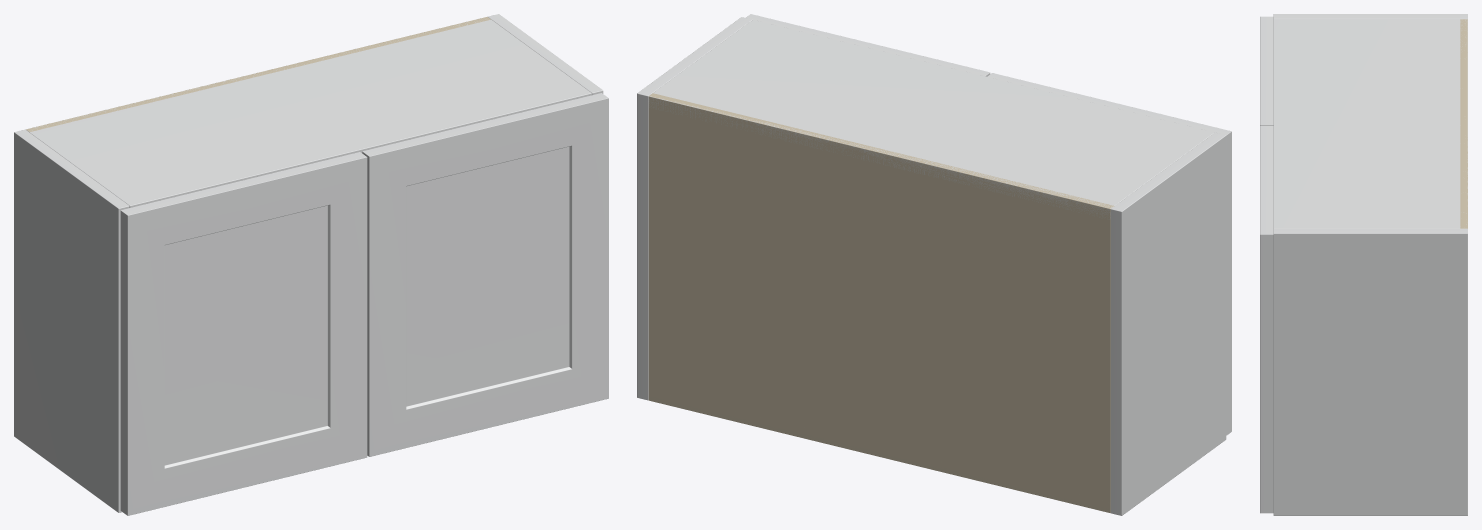
The model's file is PLY-WSS-W3018.glb.
3 renders of one model, left to right at view 1: azimuth 30°, elevation 25°; view 2: azimuth 150°, elevation 25°; view 3: azimuth 270°, elevation 25°, orthographic. The views are drawn at different scales.
Visible parts, largest first — view 1: Shaker door, Shaker door.001, Carcass top, Carcass left, Carcass back, Carcass right; view 2: Carcass back, Carcass top, Carcass left, Carcass right, Shaker door, Carcass bottom, Shaker door.001; view 3: Carcass right, Carcass top, Shaker door.001, Carcass back, Shaker door, Carcass left.
Boxes of the visible parts, box(x1,y1,x2,y2) form: Shaker door: box(120, 152, 367, 515); Shaker door.001: box(362, 93, 608, 456); Carcass top: box(26, 17, 591, 207); Carcass left: box(14, 129, 129, 512); Carcass back: box(26, 17, 490, 131); Carcass right: box(488, 14, 603, 95); Carcass back: box(648, 93, 1113, 512); Carcass top: box(648, 20, 1214, 219); Carcass left: box(1110, 132, 1226, 515); Carcass right: box(637, 17, 752, 400); Shaker door: box(987, 73, 1231, 435); Carcass bottom: box(648, 391, 1110, 512); Shaker door.001: box(746, 14, 990, 76); Carcass right: box(1273, 228, 1467, 515); Carcass top: box(1273, 19, 1467, 228); Shaker door.001: box(1260, 126, 1273, 513); Carcass back: box(1460, 19, 1467, 228); Shaker door: box(1260, 16, 1273, 125); Carcass left: box(1273, 14, 1467, 19).
Bounding box in the file's own units: 0.762 × 0.4572 × 0.3048.
